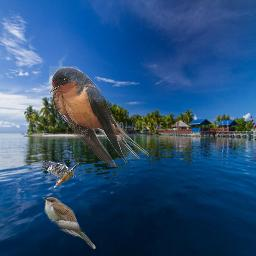Cuckoo: (42, 197, 96, 249)
Swallow: (49, 66, 149, 167)
Woodpecker: (40, 160, 79, 189)
